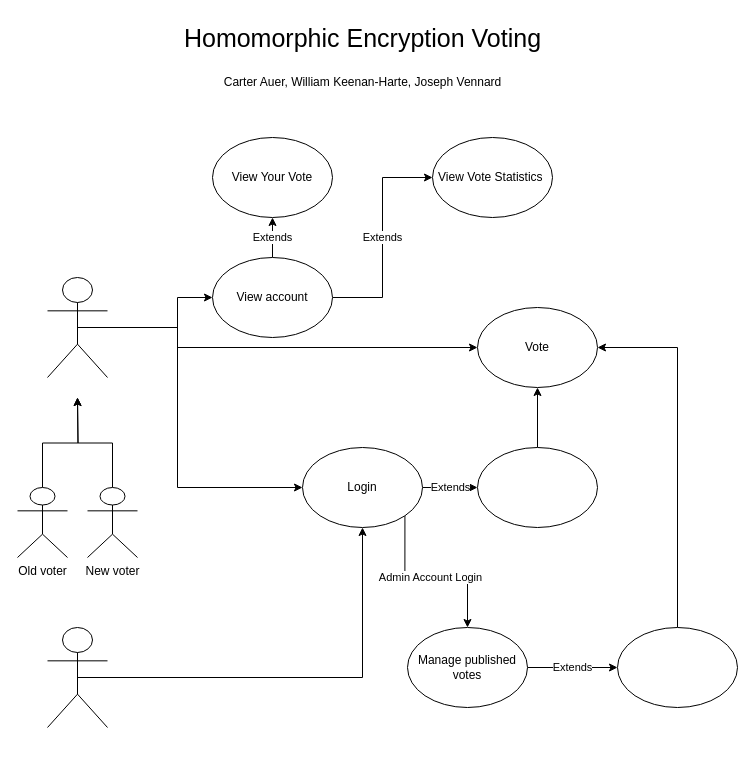
This 755x765 diagram has some shape labels left out. Here are the shapes that lost their labels. From the top down, the centre of each, then its label:
point 77,327: Voter
point 537,487: Signup
point 77,677: Admin
point 677,667: Publish Vote
